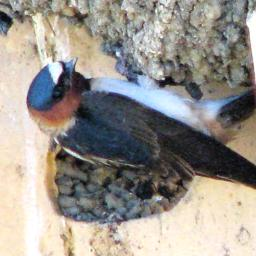Swallow: (19, 33, 256, 236)
